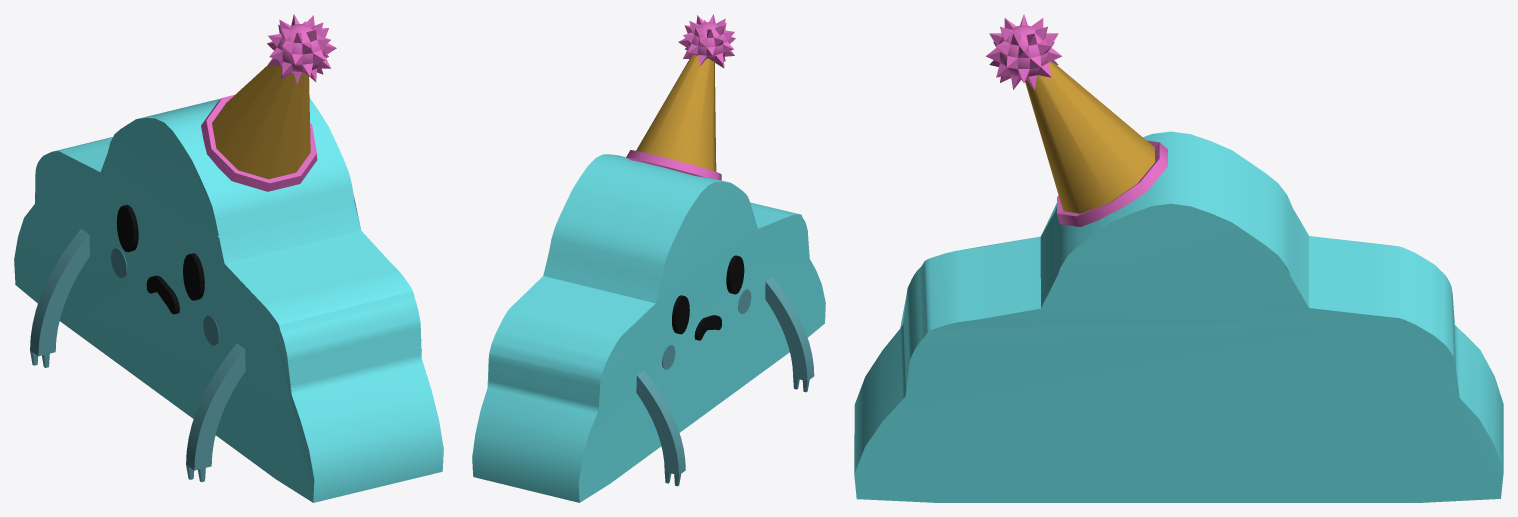
The model's file is nube.FBX.
3 views of the same model, side by side, from view 1: azimuth 30°, elevation 25°; view 2: azimuth 150°, elevation 25°; view 3: azimuth 270°, elevation 25° (orthographic). The views are drawn at different scales.
Parts seen in each view (by area): view 1: Box001; view 2: Box001; view 3: Box001.
Part boxes in pixels (x1=…): Box001: x1=14, y1=14, x2=443, y2=502; Box001: x1=472, y1=14, x2=825, y2=502; Box001: x1=854, y1=14, x2=1503, y2=502.
Bounding box in the file's own units: 32.94 × 71.85 × 92.09.
